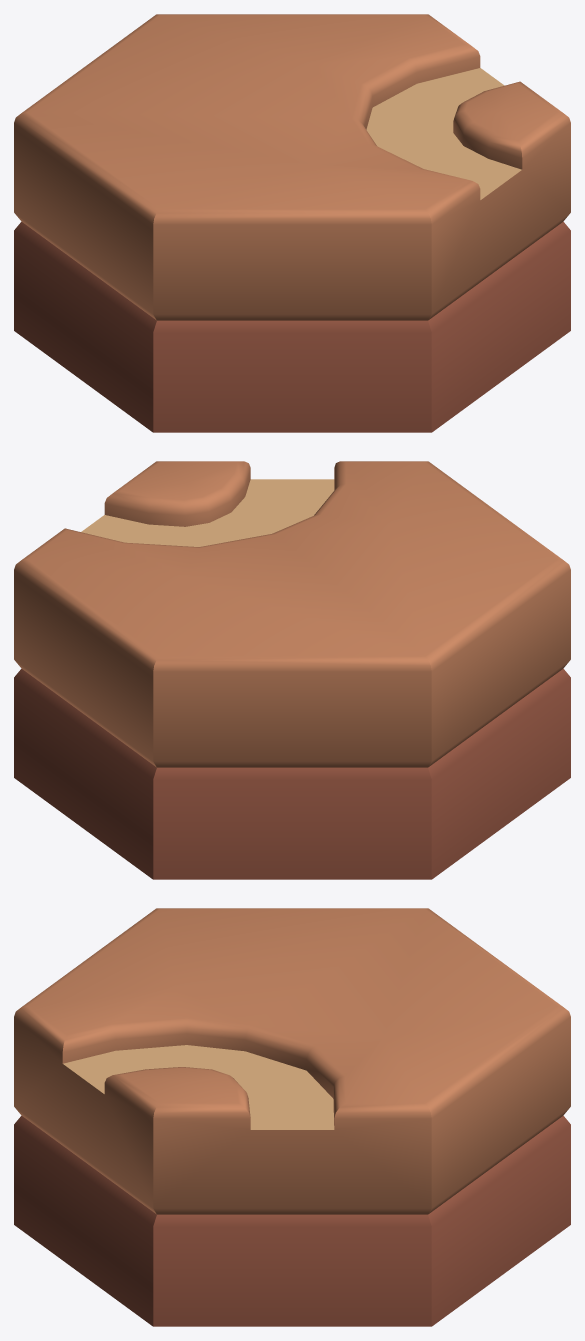
The model's file is hex_rock_roadC_detail.glb.
3 views of the same model, one above another, from view 1: azimuth 30°, elevation 25°; view 2: azimuth 150°, elevation 25°; view 3: azimuth 270°, elevation 25° (orthographic).
Parts seen in each view (by area): view 1: hex_rock_roadC_detail; view 2: hex_rock_roadC_detail; view 3: hex_rock_roadC_detail.
Boxes of the visible parts, box(x1,y1,x2,y2) form: hex_rock_roadC_detail: box(14, 14, 570, 432); hex_rock_roadC_detail: box(14, 461, 570, 879); hex_rock_roadC_detail: box(14, 908, 570, 1326).
Size of the model in its own units: 2 by 1 by 2.31.
